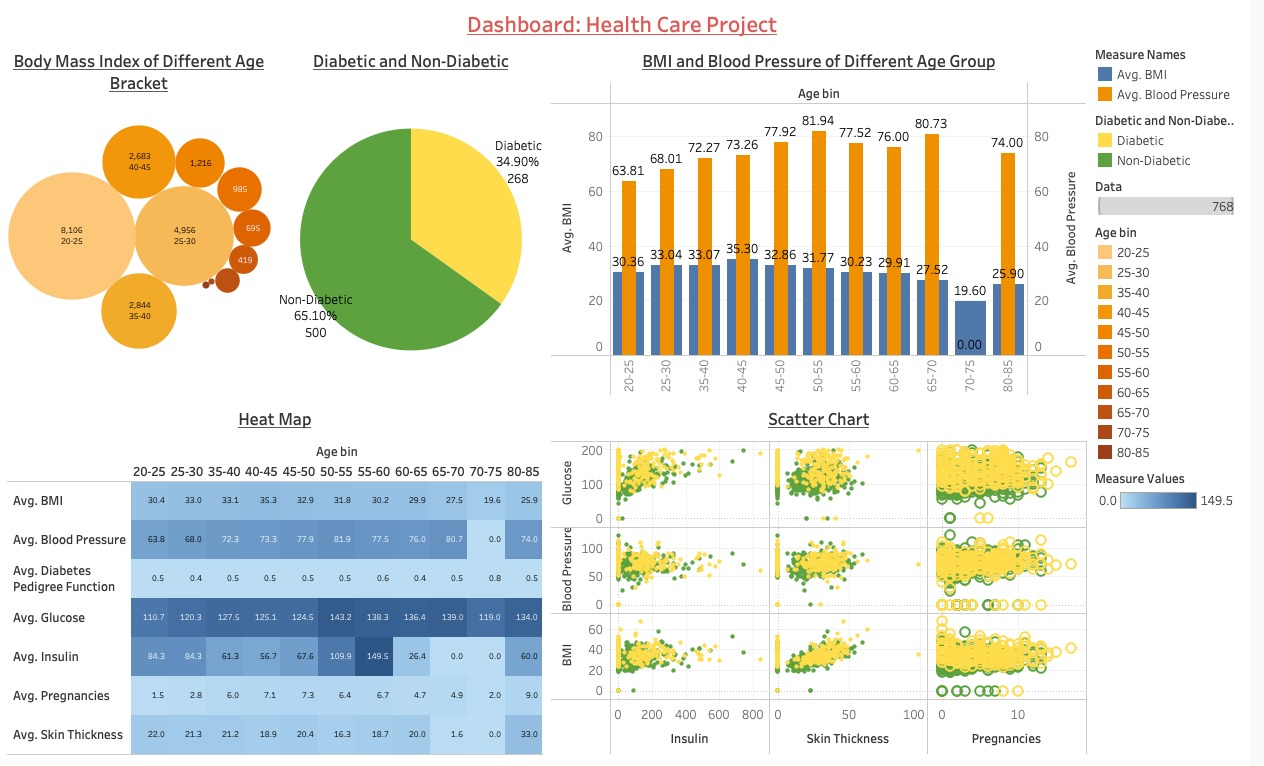

Layout of this report page (visuals, bound fields, positions):
{"tool":"tableau","page":{"name":"Dashboard 1","canvas":[1000,1000],"units":"permille","ordinal":0},"visuals":[{"type":"title","box":[7.8,14.5,984.3,66.9]},{"type":"worksheet","title":"Bubble chart","mark":"Circle","box":[7.8,81.4,209.1,452.1]},{"type":"worksheet","title":"Pie chart","mark":"Pie","box":[216.9,81.4,209.1,452.1]},{"type":"worksheet","title":"Bar chart","mark":"Bar","rows":["BMI","BloodPressure"],"cols":["Calculation_71987251646083075"],"box":[426,81.4,418.2,452.1]},{"type":"legend","title":"Bar chart","param":"[federated.1bpjmkt1n5veda1gnchch0syca8e].[:Measure Names]","box":[844.1,81.4,148,119.4]},{"type":"legend","title":"Pie chart","param":"[federated.1bpjmkt1n5veda1gnchch0syca8e].[none:Calculation_71987251634040832:ok]","box":[844.1,200.7,148,119.4]},{"type":"legend","title":"Pie chart","param":"[federated.1bpjmkt1n5veda1gnchch0syca8e].[sum:Calculation_71987251634946049:qk]","box":[844.1,320.1,148,83.2]},{"type":"legend","title":"Bubble chart","param":"[federated.1bpjmkt1n5veda1gnchch0syca8e].[none:Calculation_71987251646083075:nk]","box":[844.1,403.3,148,444.9]},{"type":"worksheet","title":"Heat map","mark":"Square","cols":["Calculation_71987251646083075"],"box":[7.8,533.4,418.1,452.1]},{"type":"worksheet","title":"Scatter chart","mark":"Automatic","rows":["Glucose","BloodPressure","BMI"],"cols":["Insulin","SkinThickness","Pregnancies"],"box":[426,533.4,418.2,452.1]},{"type":"legend","title":"Heat map","param":"[federated.1bpjmkt1n5veda1gnchch0syca8e].[Multiple Values]","box":[844.1,848.1,148,117.5]}]}

Visuals, with their boxes on the dashboard's canvas, which has no fixed pixel size, in thousandths of its width and height (x1, y1, x2, y2). These are canvas units, not pixel positions in the 1264x766 screenshot, which may show the page scaled, cropped or inside an application window:
title: (x1=8, y1=14, x2=992, y2=81)
"Bubble chart" worksheet (Circle marks): (x1=8, y1=81, x2=217, y2=534)
"Pie chart" worksheet (Pie marks): (x1=217, y1=81, x2=426, y2=534)
"Bar chart" worksheet (Bar marks): (x1=426, y1=81, x2=844, y2=534)
"Bar chart" legend: (x1=844, y1=81, x2=992, y2=201)
"Pie chart" legend: (x1=844, y1=201, x2=992, y2=320)
"Pie chart" legend: (x1=844, y1=320, x2=992, y2=403)
"Bubble chart" legend: (x1=844, y1=403, x2=992, y2=848)
"Heat map" worksheet (Square marks): (x1=8, y1=533, x2=426, y2=986)
"Scatter chart" worksheet: (x1=426, y1=533, x2=844, y2=986)
"Heat map" legend: (x1=844, y1=848, x2=992, y2=966)
